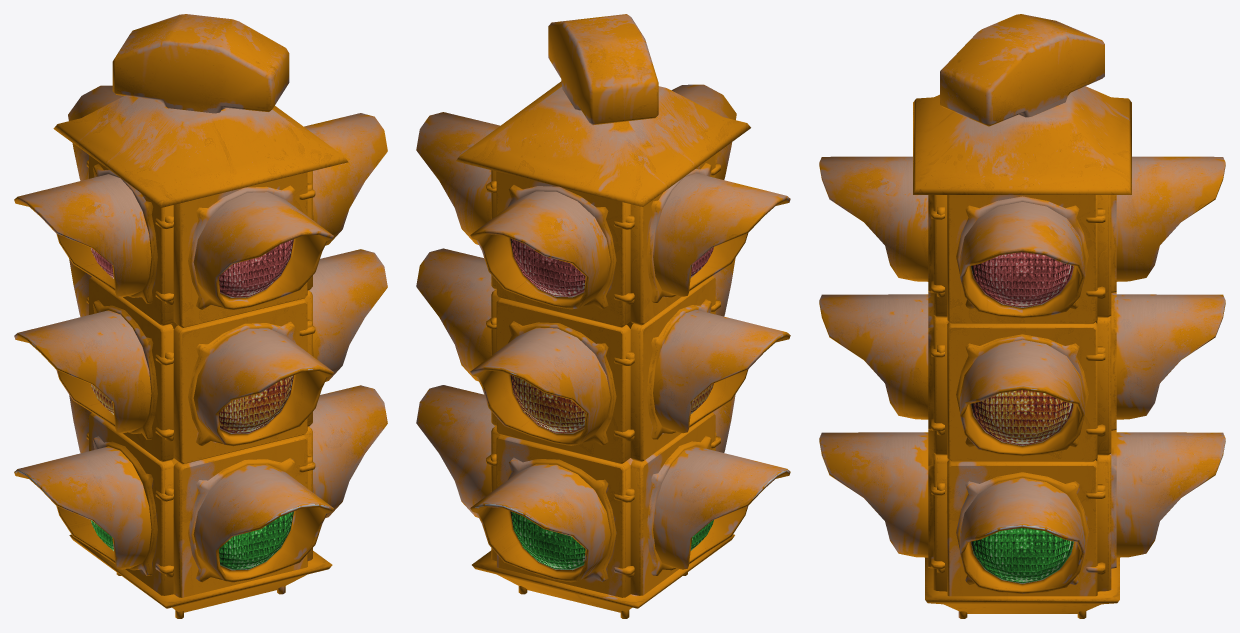
File: TrafficLight.fbx
The picture shows the model from 3 angles, left to right: view 1: azimuth 30°, elevation 25°; view 2: azimuth 150°, elevation 25°; view 3: azimuth 270°, elevation 25°; orthographic projection.
Parts seen in each view (by area): view 1: Cube.013; view 2: Cube.013; view 3: Cube.013.
Boxes of the visible parts, x1,y1,x2,y2 form: Cube.013: (14, 14, 387, 618); Cube.013: (416, 14, 790, 618); Cube.013: (819, 14, 1225, 618).
Size of the model in its own units: 94.91 by 147 by 94.91.
Materials: 1 (1 with a texture image).
